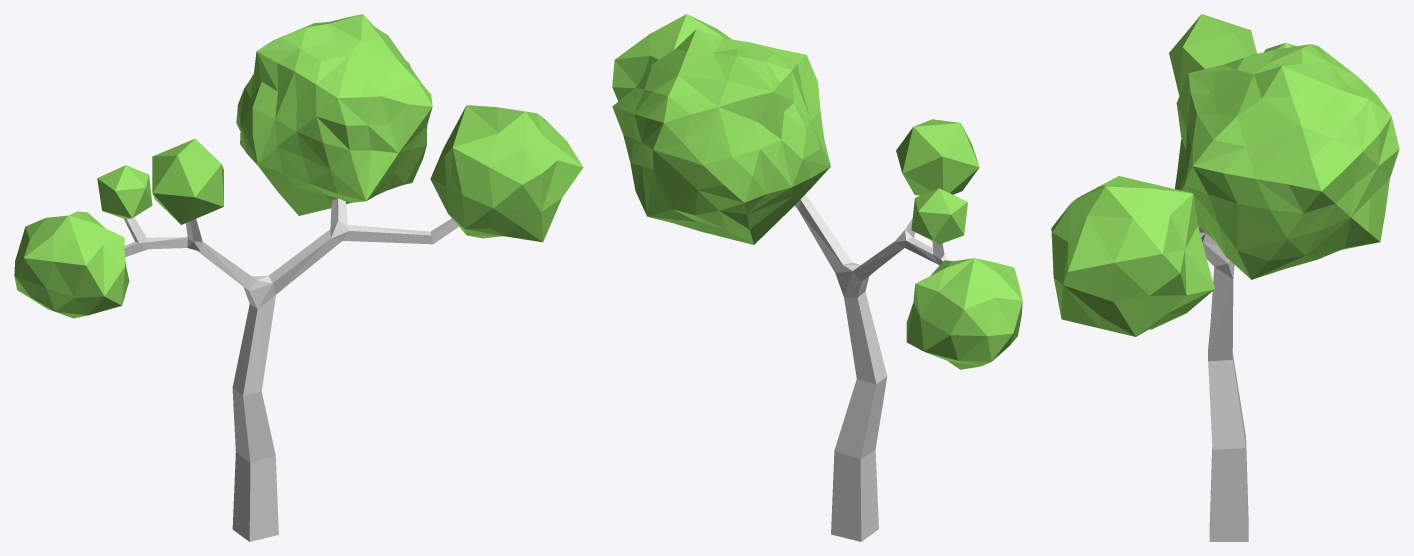
The model's file is tree1.fbx.
3 renders of one model, left to right at view 1: azimuth 30°, elevation 25°; view 2: azimuth 150°, elevation 25°; view 3: azimuth 270°, elevation 25°, orthographic. The views are drawn at different scales.
Parts seen in each view (by area): view 1: Icosphere, Icosphere.001, Tree, Icosphere.004, Icosphere.002, Icosphere.003; view 2: Icosphere, Tree, Icosphere.004, Icosphere.002, Icosphere.001, Icosphere.003; view 3: Icosphere, Icosphere.001, Tree, Icosphere.002.
Boxes of the visible parts, left/top/right/bottom form: Icosphere: left=236, top=14, right=432, bottom=215; Icosphere.001: left=430, top=105, right=583, bottom=242; Tree: left=123, top=198, right=458, bottom=541; Icosphere.004: left=14, top=211, right=129, bottom=318; Icosphere.002: left=152, top=138, right=223, bottom=224; Icosphere.003: left=97, top=165, right=152, bottom=219; Icosphere: left=612, top=29, right=830, bottom=244; Tree: left=794, top=195, right=948, bottom=541; Icosphere.004: left=906, top=258, right=1022, bottom=369; Icosphere.002: left=896, top=119, right=979, bottom=195; Icosphere.001: left=612, top=14, right=731, bottom=101; Icosphere.003: left=911, top=188, right=967, bottom=244; Icosphere: left=1175, top=44, right=1399, bottom=279; Icosphere.001: left=1051, top=176, right=1214, bottom=336; Tree: left=1198, top=226, right=1248, bottom=541; Icosphere.002: left=1169, top=14, right=1257, bottom=95.
Size of the model in its own units: 1088 by 1062 by 620.
